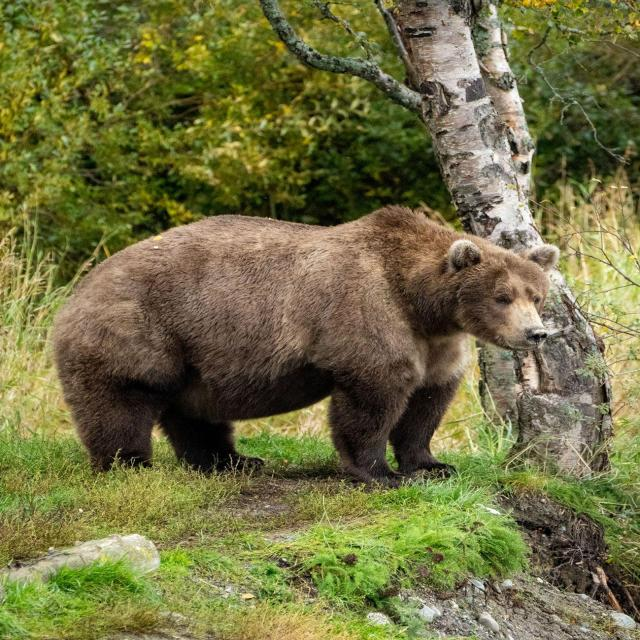Bear: (48, 206, 549, 487)
